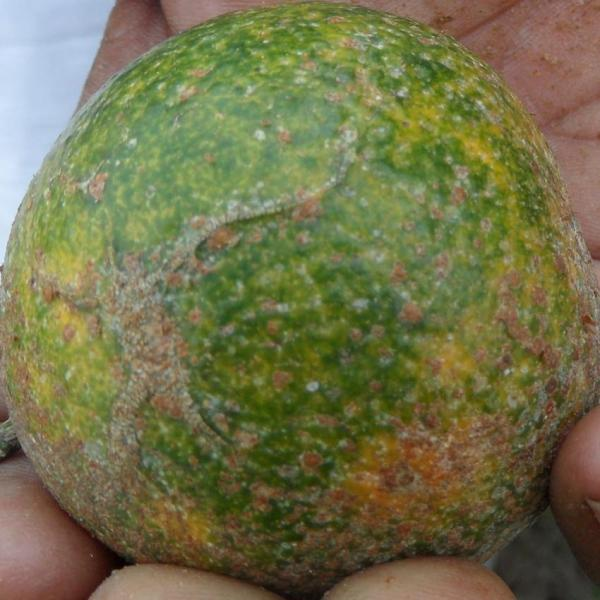Greening: (0, 0, 597, 566)
